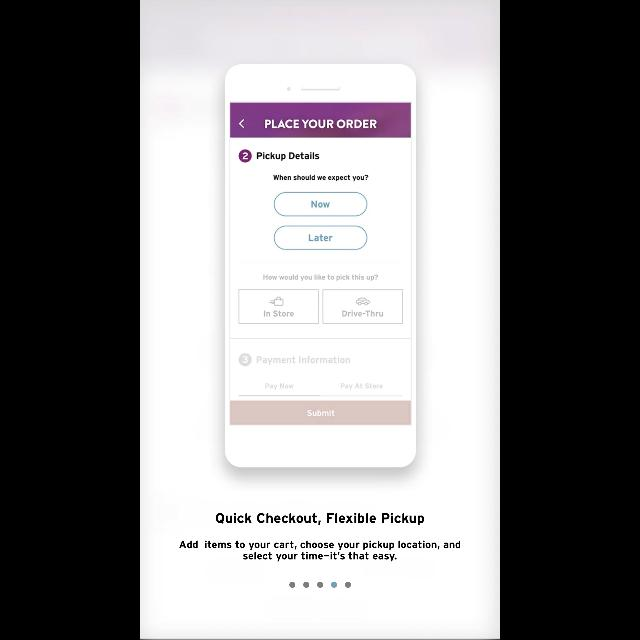image: (225, 64, 417, 468)
pageindicator: (289, 582, 351, 588)
text: (180, 540, 460, 562), (216, 512, 424, 526)
